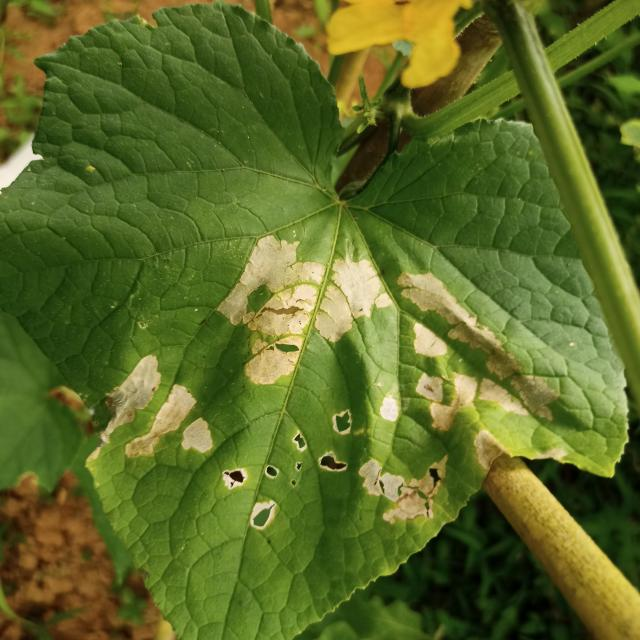disease_cucumber: (90, 235, 554, 528)
